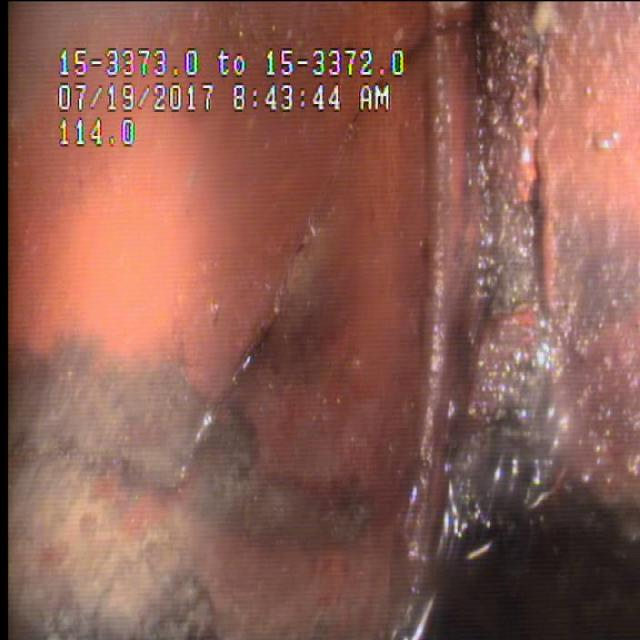Crack: (68, 214, 354, 519)
